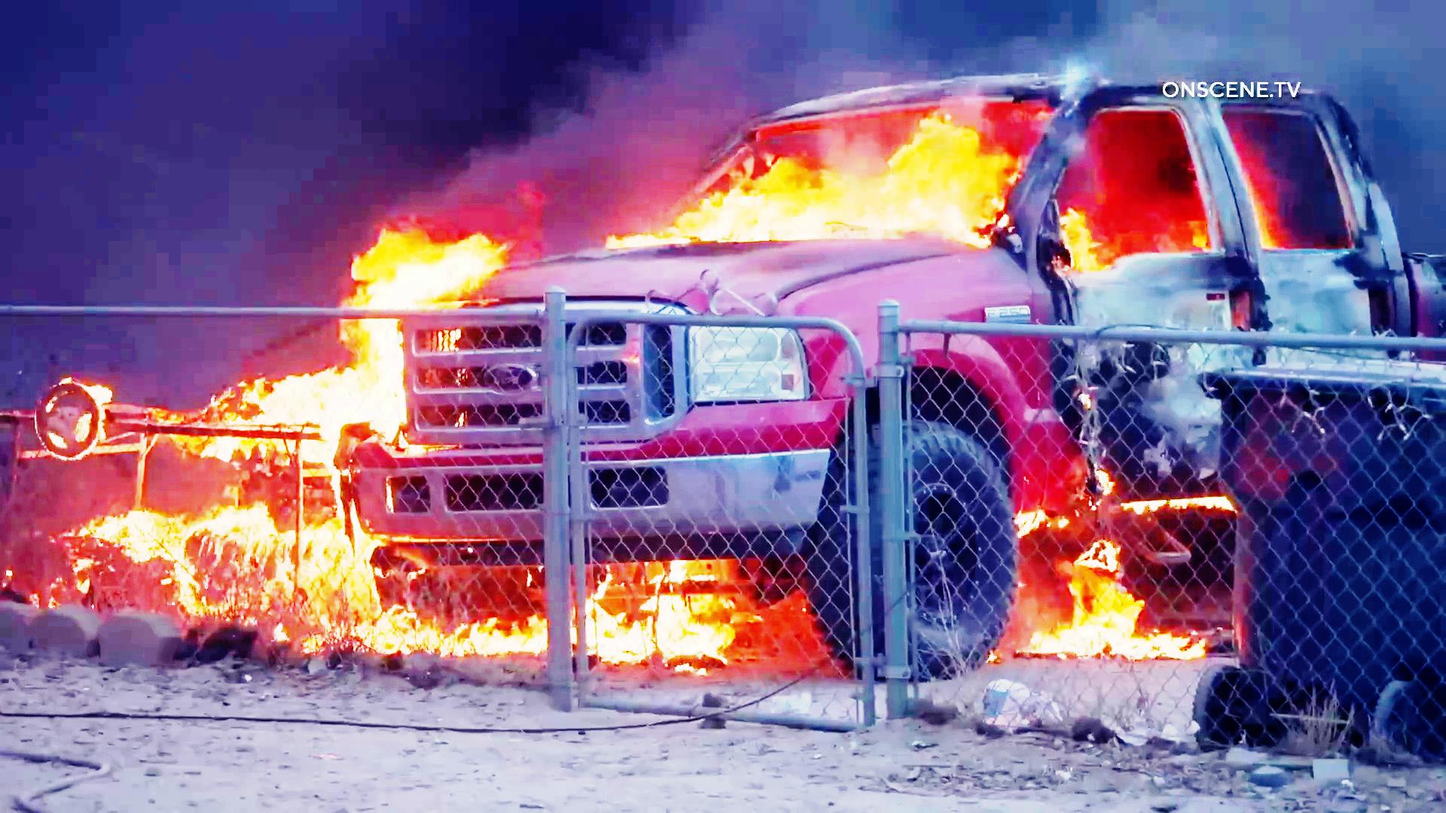fire: (320, 221, 466, 448), (759, 130, 1025, 235)
smoke: (0, 0, 667, 194)
